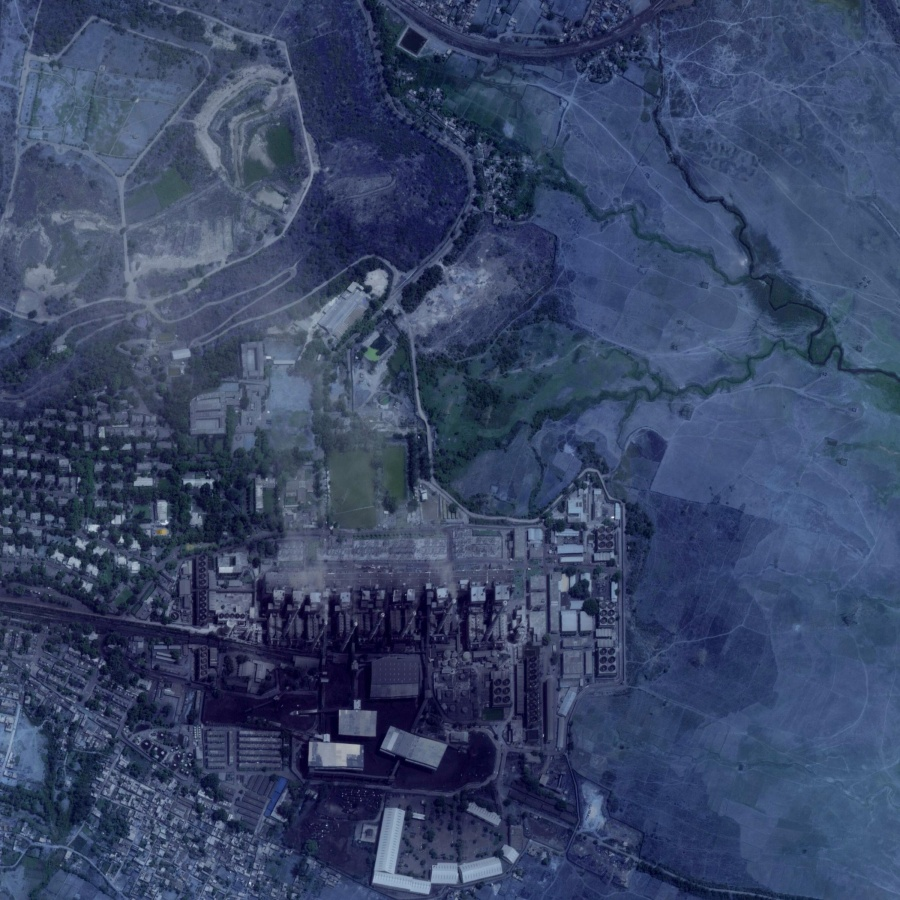PowerPlant: (203, 450, 626, 800)
